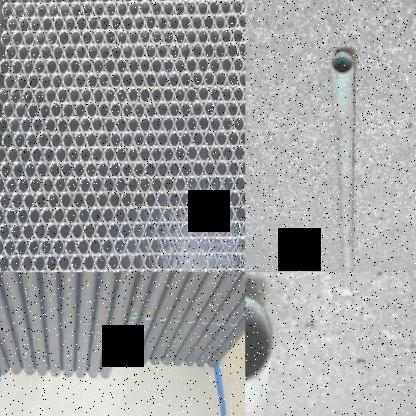pipe: (245, 294, 273, 385), (332, 50, 353, 74), (70, 221, 84, 242), (15, 238, 29, 258), (27, 238, 41, 258), (40, 206, 54, 226), (77, 206, 91, 226), (47, 191, 61, 211), (59, 191, 73, 211), (78, 175, 92, 195), (58, 221, 71, 242), (69, 253, 83, 272), (79, 145, 92, 165), (144, 129, 157, 149), (168, 129, 181, 149), (203, 129, 216, 149), (40, 238, 53, 258), (77, 237, 90, 257), (138, 236, 151, 256), (34, 222, 47, 242), (83, 221, 96, 241), (168, 220, 181, 240), (5, 207, 18, 227), (65, 206, 78, 226), (53, 206, 66, 226), (126, 205, 139, 225), (72, 191, 85, 211), (204, 189, 217, 209), (216, 189, 229, 209), (29, 176, 42, 196), (54, 175, 67, 195), (102, 175, 115, 195), (186, 237, 200, 255), (156, 221, 170, 239), (109, 160, 122, 179), (144, 160, 157, 179), (91, 145, 104, 164), (115, 145, 128, 164), (85, 130, 98, 149), (97, 130, 110, 149), (227, 129, 240, 148), (8, 116, 21, 135), (221, 114, 234, 133), (232, 55, 245, 74), (57, 253, 70, 272), (95, 253, 108, 272), (205, 252, 218, 271), (181, 252, 194, 271), (168, 252, 181, 271), (217, 252, 230, 271), (52, 238, 65, 257), (65, 238, 78, 257), (89, 237, 102, 256), (101, 237, 114, 256), (28, 207, 41, 226), (150, 205, 163, 224), (11, 192, 24, 211), (23, 192, 36, 211), (144, 190, 157, 209), (168, 190, 181, 209), (162, 175, 175, 194), (12, 160, 24, 180), (139, 144, 151, 164), (151, 144, 163, 164), (157, 129, 169, 149), (96, 221, 108, 241), (181, 220, 193, 240), (205, 220, 217, 240), (90, 206, 102, 226), (97, 190, 109, 210), (121, 190, 133, 210), (192, 189, 204, 209), (6, 176, 18, 196), (18, 176, 30, 196), (67, 175, 79, 195), (42, 175, 54, 195), (36, 161, 49, 179), (60, 161, 73, 179), (168, 160, 181, 178), (19, 146, 32, 164), (7, 146, 20, 164), (67, 146, 80, 164), (54, 146, 67, 164), (25, 131, 38, 149), (13, 131, 26, 149), (37, 131, 50, 149), (19, 116, 32, 134), (150, 115, 163, 133), (91, 115, 104, 133), (62, 101, 75, 119), (121, 101, 134, 119), (215, 100, 228, 118), (156, 100, 169, 118), (168, 100, 181, 118), (203, 100, 216, 118), (85, 100, 98, 118), (9, 87, 22, 105), (44, 87, 57, 105), (232, 85, 245, 103), (4, 73, 17, 91), (215, 70, 228, 88), (191, 70, 204, 88), (208, 56, 221, 74), (197, 56, 210, 74), (168, 42, 181, 60), (156, 42, 169, 60), (214, 41, 227, 59), (69, 29, 82, 47), (46, 29, 59, 47), (208, 27, 221, 45), (150, 27, 163, 45), (197, 27, 210, 45), (9, 254, 22, 272), (33, 254, 46, 272), (45, 254, 58, 272), (119, 253, 132, 271), (156, 253, 169, 271), (174, 237, 187, 255), (150, 237, 163, 255), (46, 223, 59, 241), (108, 222, 121, 240), (144, 221, 157, 239), (132, 221, 145, 239), (114, 206, 127, 224), (186, 205, 199, 223), (222, 205, 235, 223), (210, 205, 223, 223), (35, 192, 48, 210), (84, 192, 97, 210), (108, 191, 121, 209), (91, 176, 104, 194), (210, 175, 223, 193), (198, 175, 211, 193), (0, 160, 12, 179), (157, 160, 169, 179), (133, 160, 145, 179), (192, 159, 204, 178), (228, 159, 240, 178), (216, 159, 228, 178), (103, 145, 115, 164), (30, 145, 42, 164), (198, 144, 210, 163), (186, 144, 198, 163), (210, 144, 222, 163), (222, 144, 234, 163), (74, 130, 86, 149), (133, 130, 145, 149), (192, 129, 204, 148), (216, 129, 228, 148), (209, 114, 221, 133), (233, 114, 245, 133), (198, 114, 210, 133), (227, 100, 239, 119), (83, 253, 95, 272), (108, 253, 120, 272), (230, 252, 242, 271), (193, 252, 205, 271), (114, 237, 126, 256), (223, 236, 235, 255), (10, 223, 22, 242), (217, 220, 229, 239), (229, 220, 241, 239), (139, 205, 151, 224), (133, 190, 145, 209), (181, 190, 193, 209), (157, 190, 169, 209), (139, 175, 151, 194), (127, 175, 139, 194), (151, 175, 163, 194), (186, 175, 198, 194), (222, 174, 234, 193), (121, 131, 134, 148), (79, 116, 92, 133), (14, 102, 27, 119), (80, 87, 93, 104), (74, 72, 87, 89), (144, 71, 157, 88), (203, 70, 216, 87), (57, 58, 70, 75), (45, 58, 58, 75), (22, 58, 35, 75), (150, 57, 163, 74), (220, 56, 233, 73), (110, 44, 123, 61), (63, 44, 76, 61), (86, 43, 99, 60), (226, 41, 239, 58), (162, 28, 175, 45), (220, 27, 233, 44), (52, 16, 65, 33), (40, 15, 53, 32), (202, 13, 215, 30), (226, 12, 239, 29), (47, 2, 60, 19), (58, 2, 71, 19), (81, 1, 94, 18), (219, 0, 232, 17), (228, 190, 241, 207), (193, 220, 204, 240), (49, 161, 61, 179), (73, 161, 85, 179), (85, 161, 97, 179), (181, 160, 193, 178), (24, 160, 36, 178), (43, 146, 55, 164), (162, 145, 174, 163), (233, 144, 245, 162), (62, 131, 74, 149), (1, 131, 13, 149), (56, 117, 68, 135), (44, 116, 56, 134), (139, 116, 151, 134), (162, 115, 174, 133), (186, 115, 198, 133), (174, 115, 186, 133), (39, 102, 51, 120), (74, 101, 86, 119), (3, 101, 15, 119), (22, 87, 34, 105), (34, 87, 46, 105), (210, 85, 222, 103), (221, 85, 233, 103), (186, 56, 198, 74), (180, 42, 192, 60), (203, 41, 215, 59), (11, 30, 23, 48), (93, 29, 105, 47), (58, 29, 70, 47), (23, 29, 35, 47), (116, 29, 128, 47), (81, 29, 93, 47), (21, 254, 33, 272), (132, 253, 144, 271), (144, 253, 156, 271), (4, 239, 16, 257), (162, 237, 174, 255), (126, 237, 138, 255), (199, 237, 211, 255), (211, 237, 223, 255), (22, 223, 34, 241), (120, 222, 132, 240), (102, 206, 114, 224), (199, 205, 211, 223), (115, 176, 127, 194), (98, 160, 109, 179), (128, 145, 139, 164), (110, 130, 121, 149), (175, 205, 186, 224), (234, 204, 245, 223), (0, 191, 11, 210), (175, 175, 186, 194), (68, 87, 81, 103), (62, 72, 75, 88), (121, 72, 134, 88), (168, 72, 181, 88), (156, 72, 169, 88), (80, 58, 93, 74), (28, 45, 41, 61), (64, 16, 77, 32), (122, 16, 135, 32), (168, 15, 181, 31), (110, 15, 123, 31), (214, 13, 227, 29), (70, 2, 83, 18), (121, 161, 133, 178), (204, 160, 216, 177), (50, 132, 62, 149), (32, 116, 44, 133), (68, 116, 80, 133), (27, 102, 39, 119), (145, 101, 157, 118), (110, 101, 122, 118), (50, 101, 62, 118), (192, 100, 204, 117), (139, 87, 151, 104), (56, 87, 68, 104), (162, 86, 174, 103), (127, 86, 139, 103), (198, 85, 210, 102), (86, 72, 98, 89), (133, 71, 145, 88), (180, 71, 192, 88), (227, 70, 239, 87), (34, 58, 46, 75), (69, 58, 81, 75), (174, 57, 186, 74), (40, 44, 52, 61), (75, 43, 87, 60), (122, 43, 134, 60), (145, 42, 157, 59), (133, 42, 145, 59), (191, 42, 203, 59), (0, 30, 12, 47), (35, 30, 47, 47), (104, 29, 116, 46), (174, 29, 186, 46), (139, 28, 151, 45), (232, 27, 244, 44), (29, 16, 41, 33), (18, 16, 30, 33), (7, 16, 19, 33), (87, 15, 99, 32), (145, 13, 157, 30), (36, 2, 48, 19), (13, 2, 25, 19), (162, 0, 174, 17), (197, 0, 209, 17), (186, 0, 198, 17), (174, 0, 186, 17), (162, 206, 174, 223), (0, 222, 10, 242), (175, 145, 186, 163), (181, 130, 192, 148), (104, 116, 115, 134), (134, 101, 145, 119), (98, 101, 109, 119), (28, 72, 39, 90), (140, 56, 151, 74), (18, 208, 29, 226), (234, 174, 245, 192), (151, 87, 163, 103), (92, 87, 104, 103), (174, 87, 186, 103), (104, 87, 116, 103), (40, 74, 52, 90), (51, 74, 63, 90), (16, 74, 28, 90), (98, 72, 110, 88), (104, 58, 116, 74), (162, 58, 174, 74), (93, 58, 105, 74), (52, 45, 64, 61), (5, 45, 17, 61), (76, 16, 88, 32), (157, 15, 169, 31), (133, 15, 145, 31), (180, 14, 192, 30), (99, 14, 111, 30), (191, 14, 203, 30), (24, 2, 36, 18), (1, 2, 13, 18), (151, 1, 163, 17), (232, 0, 244, 16), (235, 235, 245, 254), (116, 116, 127, 133), (128, 116, 139, 133), (181, 101, 192, 118), (10, 87, 21, 104), (186, 86, 197, 103), (110, 71, 121, 88), (0, 57, 11, 74), (128, 57, 139, 74), (116, 57, 127, 74), (18, 44, 29, 61), (99, 44, 110, 61), (128, 29, 139, 46), (186, 28, 197, 45), (116, 87, 127, 103), (11, 60, 22, 76), (117, 1, 128, 17), (105, 1, 116, 17), (94, 1, 105, 17), (128, 1, 139, 17), (209, 0, 220, 16), (140, 0, 151, 16), (0, 253, 9, 272), (0, 86, 9, 103), (0, 116, 8, 134), (237, 12, 245, 28), (238, 100, 245, 118), (238, 40, 245, 58), (0, 176, 6, 196), (239, 129, 245, 148), (239, 69, 245, 88), (0, 146, 6, 164), (0, 207, 5, 227), (240, 188, 245, 208), (240, 159, 245, 177), (241, 219, 245, 239), (241, 251, 245, 270), (0, 238, 4, 257), (124, 267, 138, 272), (186, 267, 200, 272), (222, 267, 236, 272), (161, 267, 174, 272), (149, 267, 162, 272), (211, 267, 224, 272), (199, 267, 211, 272), (174, 267, 186, 272), (41, 0, 54, 4), (64, 0, 77, 4), (100, 268, 113, 272), (7, 0, 19, 4), (113, 268, 125, 272), (137, 268, 149, 272), (30, 0, 41, 4), (19, 0, 30, 4), (156, 0, 169, 3), (53, 0, 65, 3), (99, 0, 111, 3), (122, 0, 134, 3), (76, 0, 88, 3), (133, 0, 145, 3), (110, 0, 122, 3), (88, 0, 99, 3), (145, 0, 156, 3), (168, 0, 180, 2), (202, 0, 214, 1), (191, 0, 203, 1), (214, 0, 226, 1), (179, 0, 190, 1)
